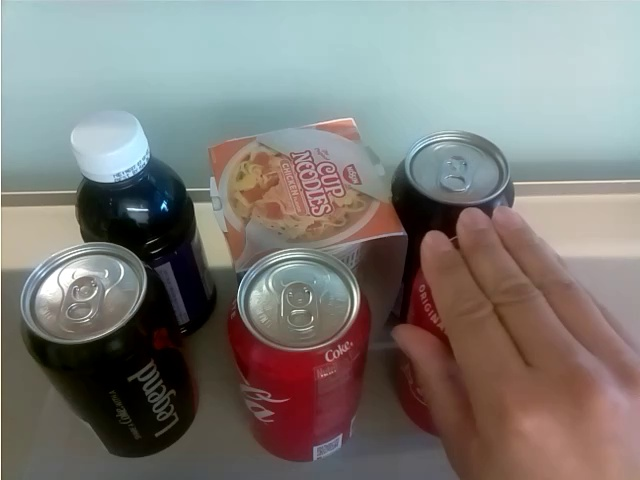cocacola: (15, 244, 203, 462), (222, 249, 362, 466), (389, 129, 519, 235)
hand: (391, 202, 640, 480)
juice: (71, 109, 218, 340)
noodles: (203, 113, 405, 337)
